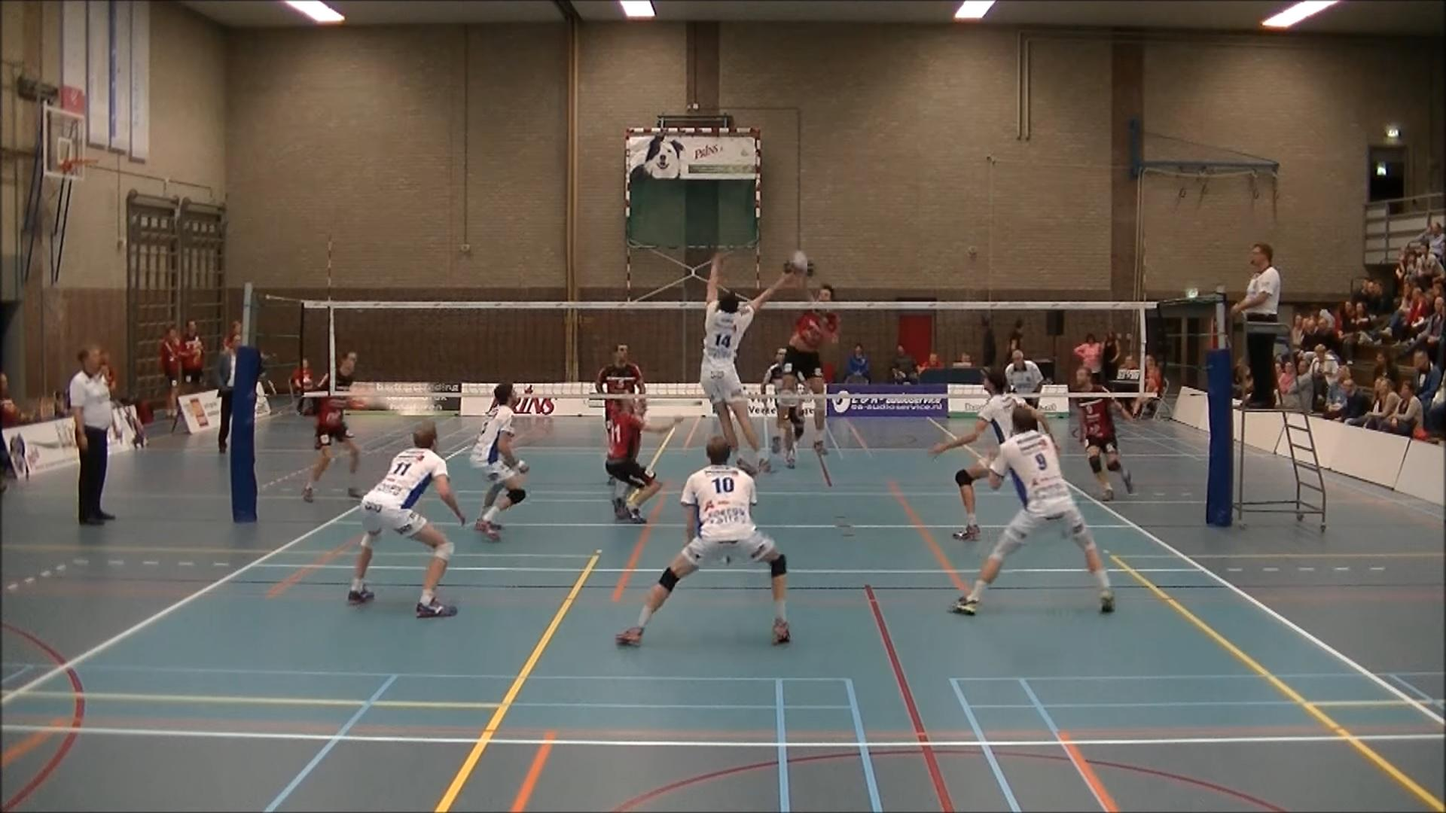attacco: (769, 250, 838, 461)
muro: (692, 261, 799, 479)
